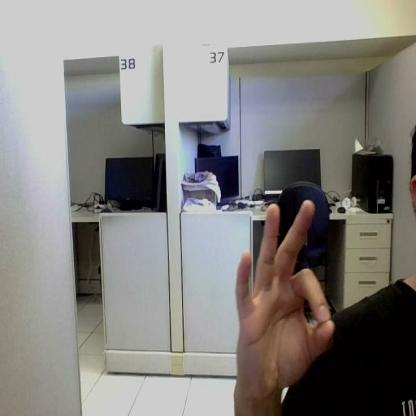F: (236, 200, 333, 388)
